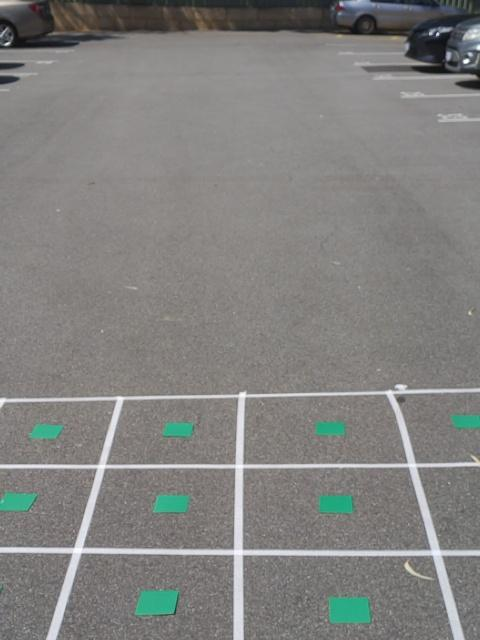weed: (328, 593, 373, 628), (134, 587, 182, 618), (319, 490, 356, 518), (152, 492, 192, 514), (0, 491, 41, 511), (159, 420, 198, 439), (28, 421, 59, 442), (313, 418, 347, 437), (449, 411, 480, 430)
